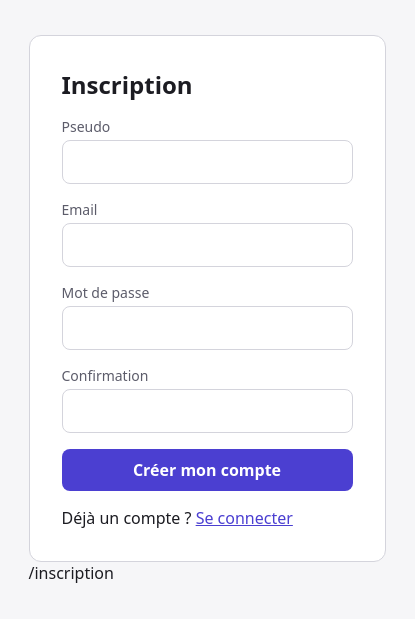
Test case: Inscription › affiche l'erreur Firebase traduite
This screenshot has width=415, height=619.
In the field labelled "Pseudo": (207, 162) [62,140,352,184], type "Theo"
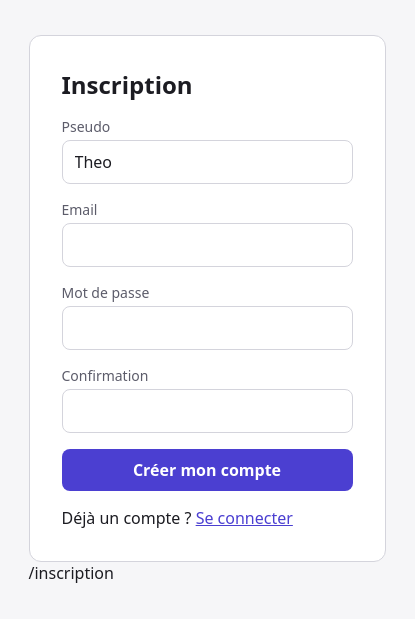
In the field labelled "Email": (207, 244) [62,222,352,266], type "theo@exemple.fr"
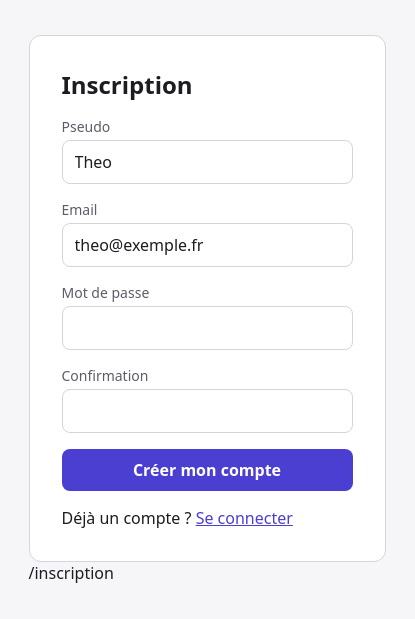
In the password field labelled "Mot de passe": (207, 328) [62,306,352,350], type "motdepasse"
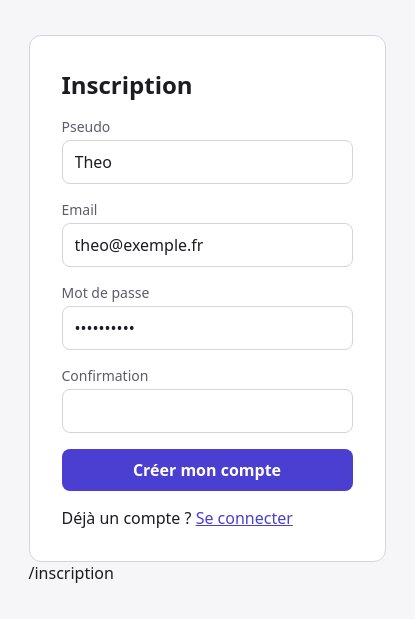
In the password field labelled "Confirmation": (207, 410) [62,388,352,432], type "motdepasse"
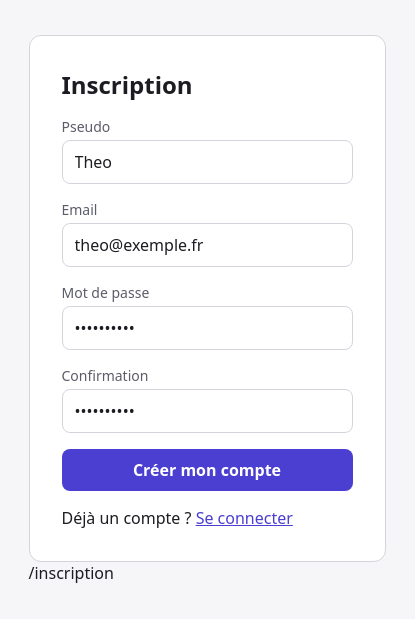
Click the button "Créer mon compte": (207, 470) [62,448,352,490]
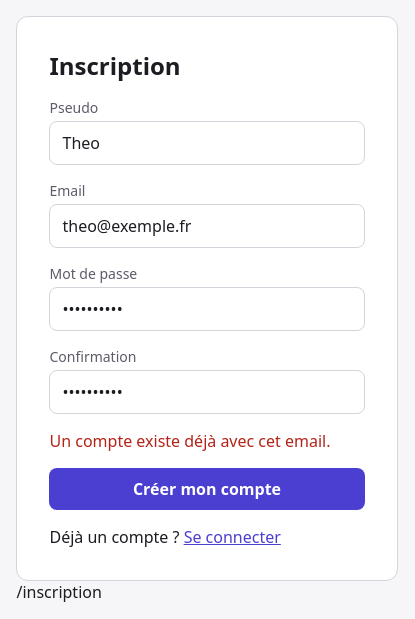
Expected: the message reads "Un compte existe déjà avec cet email.", [50,430,330,452]
